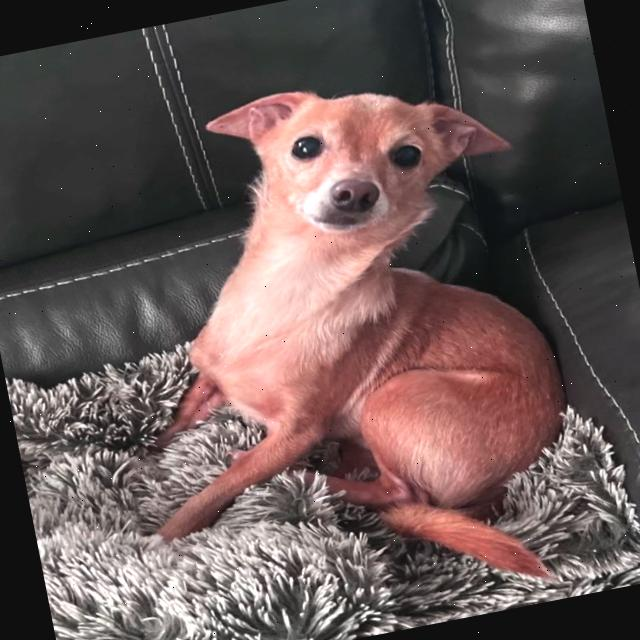chihuahua_dog: (182, 47, 536, 277)
